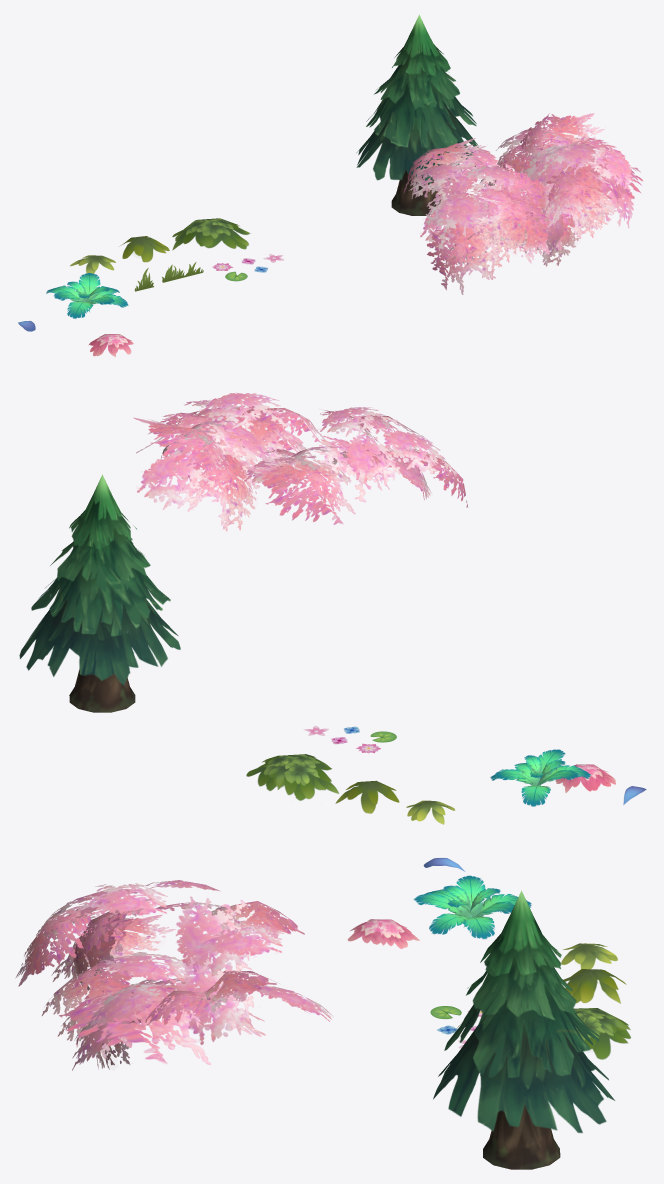
Rendered from sapin.glb.
3 renders of one model, top to bottom at view 1: azimuth 30°, elevation 25°; view 2: azimuth 150°, elevation 25°; view 3: azimuth 270°, elevation 25°, orthographic. The views are drawn at different scales.
Parts seen in each view (by area): view 1: Pinetree, Tree_1 (×5), Tree_7 (×4), Tree_22, Tree_20, Tree_9 (×3), Leafage1, Tree_10 (×2), Tree_23, Leafage4, Tree_12, Tree_21 (+4 smaller); view 2: Pinetree, Tree_1 (×3), Tree_7 (×4), Tree_10, Leafage4, Tree_9, Leafage1, Tree_12, Tree_21, Tree_23, Leafage6, Leafage3 (+2 smaller); view 3: Pinetree, Tree_1 (×6), Tree_17 (×2), Tree_9 (×4), Tree_12, Leafage1, Tree_7 (×2), Tree_10 (×3), Tree_20, Leafage4, Leafage3, Leafage6 (+2 smaller).
Part boxes in pixels (bbox=[...]): Pinetree: bbox=[356, 14, 478, 215]; Tree_1 (×5): bbox=[403, 113, 615, 266]; Tree_7 (×4): bbox=[415, 143, 595, 207]; Tree_22: bbox=[427, 210, 502, 294]; Tree_20: bbox=[472, 192, 550, 263]; Tree_9 (×3): bbox=[523, 145, 633, 255]; Leafage1: bbox=[46, 273, 128, 318]; Tree_10 (×2): bbox=[469, 144, 546, 227]; Tree_23: bbox=[425, 189, 480, 249]; Leafage4: bbox=[172, 218, 250, 250]; Tree_12: bbox=[527, 155, 642, 207]; Tree_21: bbox=[408, 164, 465, 202]; Pinetree: bbox=[19, 474, 180, 712]; Tree_1 (×3): bbox=[133, 408, 355, 524]; Tree_7 (×4): bbox=[199, 392, 397, 502]; Tree_10: bbox=[179, 448, 260, 531]; Leafage4: bbox=[246, 754, 338, 800]; Tree_9: bbox=[137, 452, 225, 509]; Leafage1: bbox=[490, 749, 591, 806]; Tree_12: bbox=[136, 405, 303, 479]; Tree_21: bbox=[345, 432, 405, 485]; Tree_23: bbox=[383, 431, 456, 477]; Leafage6: bbox=[335, 780, 399, 813]; Leafage3: bbox=[555, 764, 615, 792]; Pinetree: bbox=[433, 890, 614, 1169]; Tree_1 (×6): bbox=[42, 901, 304, 1069]; Tree_17 (×2): bbox=[175, 896, 253, 1044]; Tree_9 (×4): bbox=[72, 921, 333, 1070]; Tree_12: bbox=[58, 985, 265, 1064]; Leafage1: bbox=[414, 875, 531, 939]; Tree_7 (×2): bbox=[79, 883, 189, 985]; Tree_10 (×3): bbox=[51, 898, 242, 1025]; Tree_20: bbox=[15, 900, 104, 986]; Leafage4: bbox=[574, 1008, 630, 1059]; Leafage3: bbox=[347, 919, 419, 948]; Leafage6: bbox=[563, 969, 626, 1003].
Bounding box in the file's own units: 9.7 × 3.74 × 7.42.
1 material, 1 textured.
